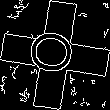O_E: (26, 30, 84, 80)
